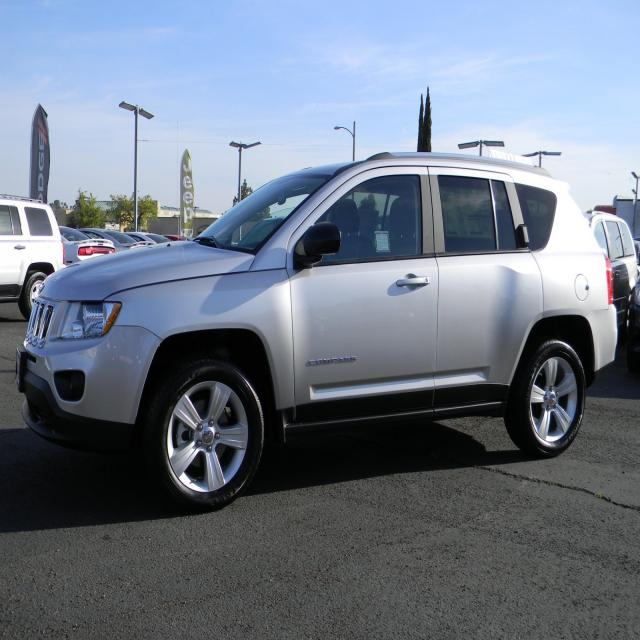car: (12, 124, 620, 490), (0, 192, 63, 315)
